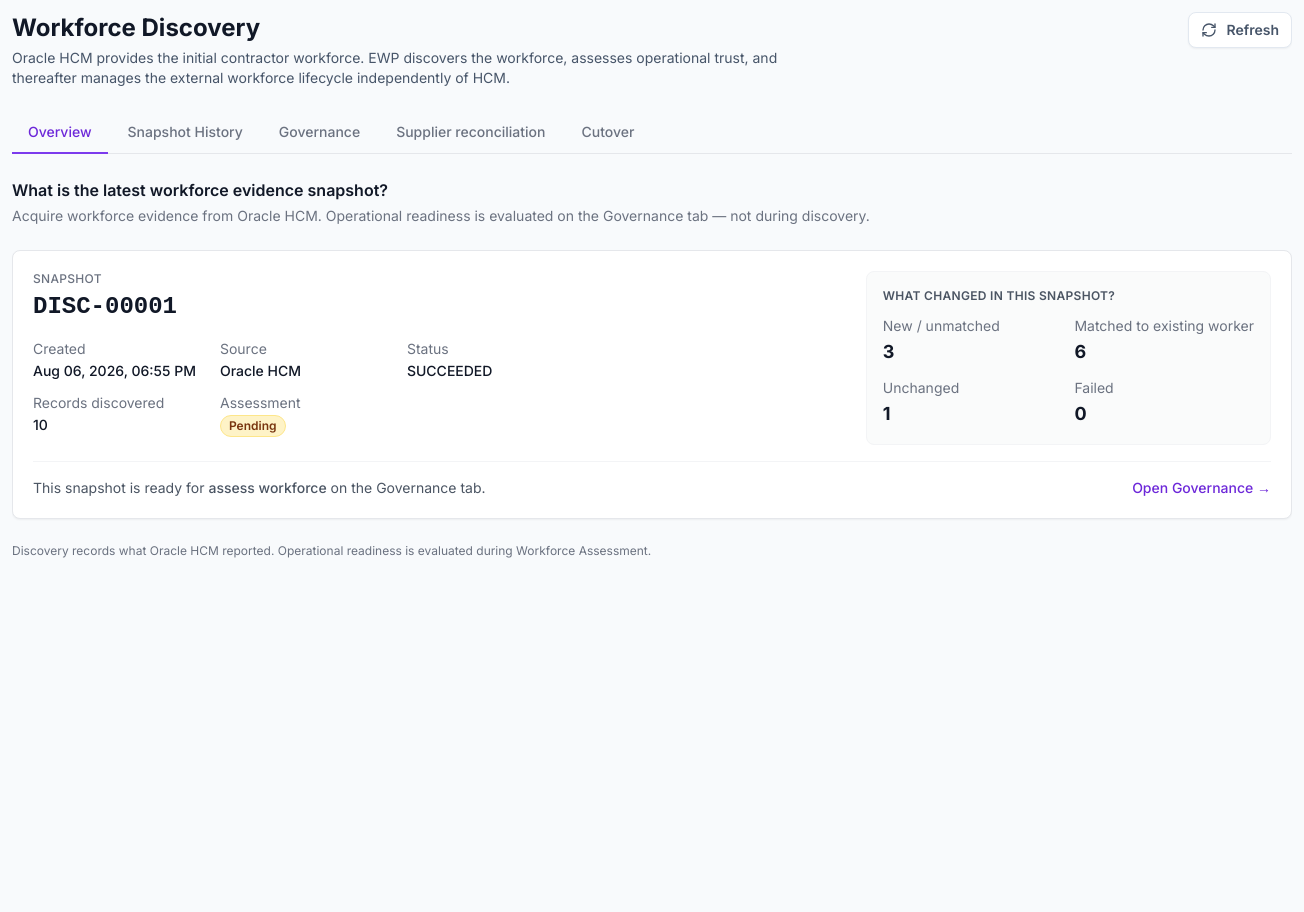
HcmConnectorOperationsPanel — migration lineage toggle (render) › hides assessment-derived governance outputs before workforce assessment runs
Expected: the navigation bar with test id "workforce-import-tabs" is shown, [12,112,1292,154]
Click the tab "Governance" at (320, 133), box [263,112,376,154]
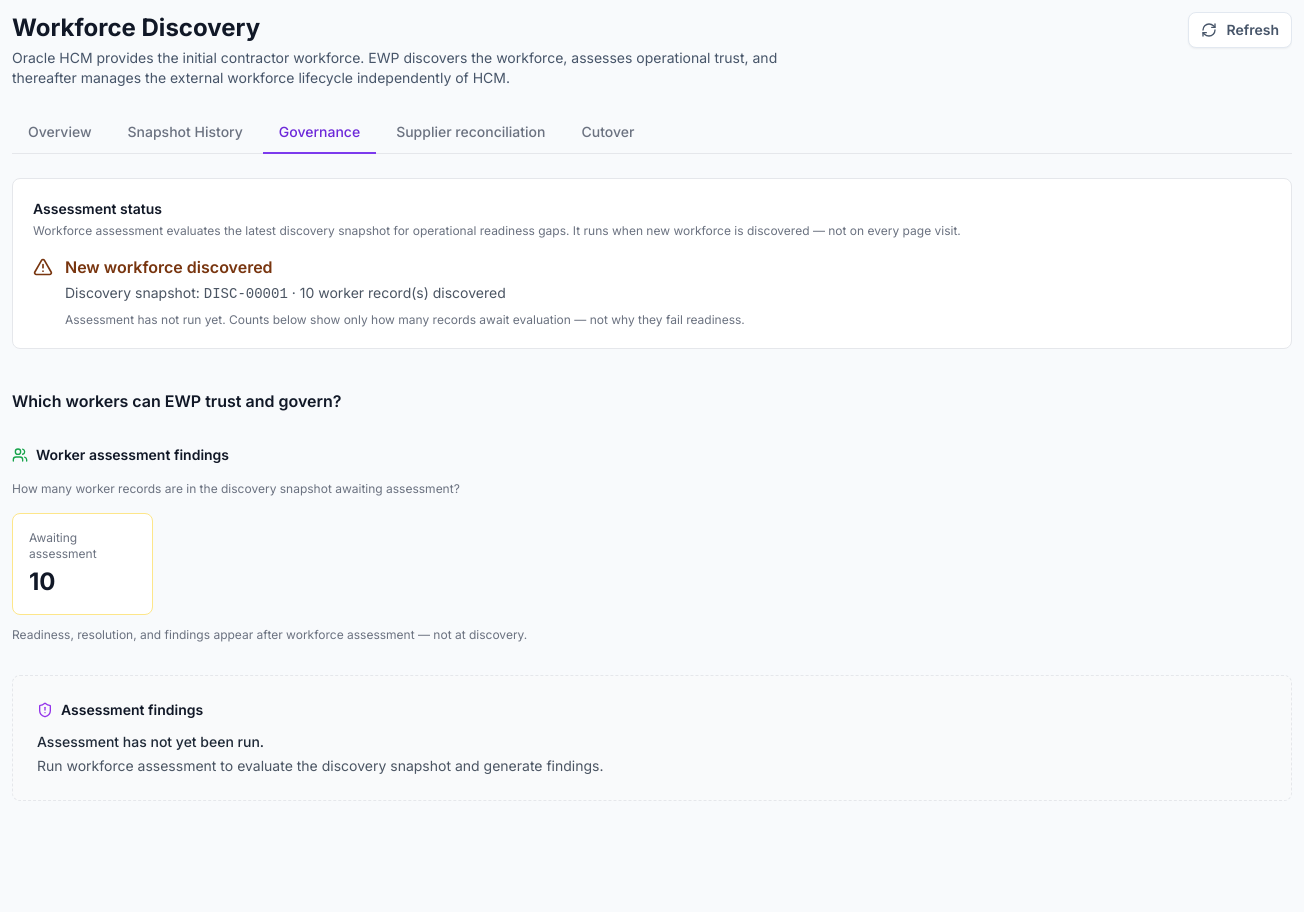
Result: the element with test id "workforce-assessment-status-section" is shown at [12,178,1292,349]
Result: the element with test id "workforce-readiness-section" is shown at [12,446,527,642]
Result: the text "Awaiting assessment" is shown at [29,530,97,561]
